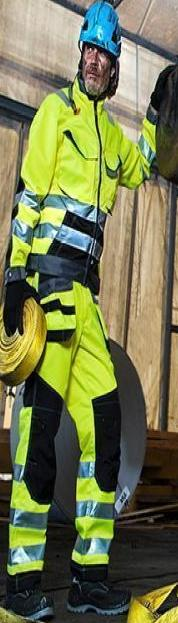boots: (63, 559, 132, 616), (4, 563, 55, 621)
gloves: (2, 279, 37, 336), (146, 63, 177, 124)
hard-hat: (78, 0, 121, 57)
ppe-suit: (0, 74, 158, 585)
